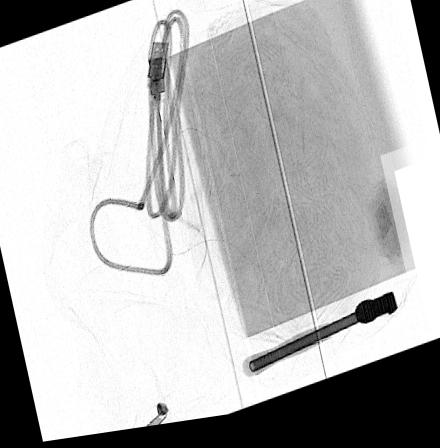Hammer: (241, 301, 397, 384)
